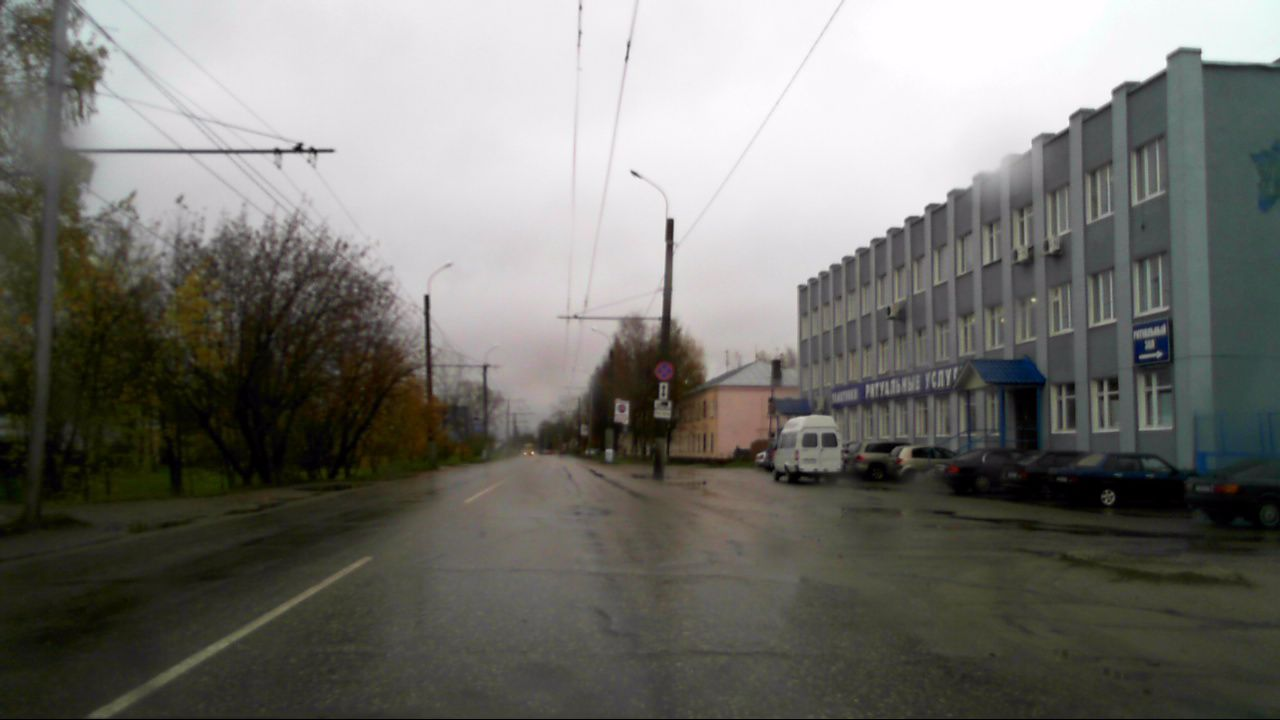No Parking: (654, 359, 673, 379)
